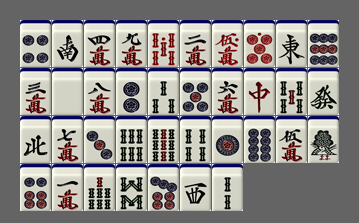0m: (212, 20, 243, 67)
0p: (244, 20, 275, 67)
0s: (148, 20, 179, 67)
1m: (52, 164, 83, 211)
1p: (212, 116, 243, 163)
1s: (308, 116, 339, 163)
1z: (276, 20, 307, 67)
2m: (180, 20, 211, 67)
2p: (116, 68, 147, 115)
2s: (212, 164, 243, 211)
2z: (52, 20, 83, 67)
3m: (20, 68, 51, 115)
3p: (84, 116, 115, 163)
3s: (148, 68, 179, 115)
3z: (180, 164, 211, 211)
4m: (84, 20, 115, 67)
4p: (20, 20, 51, 67)
4s: (180, 116, 211, 163)
4z: (20, 116, 51, 163)
5m: (276, 116, 307, 163)
5p: (180, 68, 211, 115)
5s: (276, 68, 307, 115)
5z: (52, 68, 83, 115)
6m: (212, 68, 243, 115)
6p: (20, 164, 51, 211)
6s: (116, 116, 147, 163)
6z: (308, 68, 339, 115)
7m: (52, 116, 83, 163)
7p: (148, 164, 179, 211)
7s: (84, 164, 115, 211)
7z: (244, 68, 275, 115)
8m: (84, 68, 115, 115)
8p: (244, 116, 275, 163)
8s: (116, 164, 147, 211)
9m: (116, 20, 147, 67)
9p: (308, 20, 339, 67)
9s: (148, 116, 179, 163)
